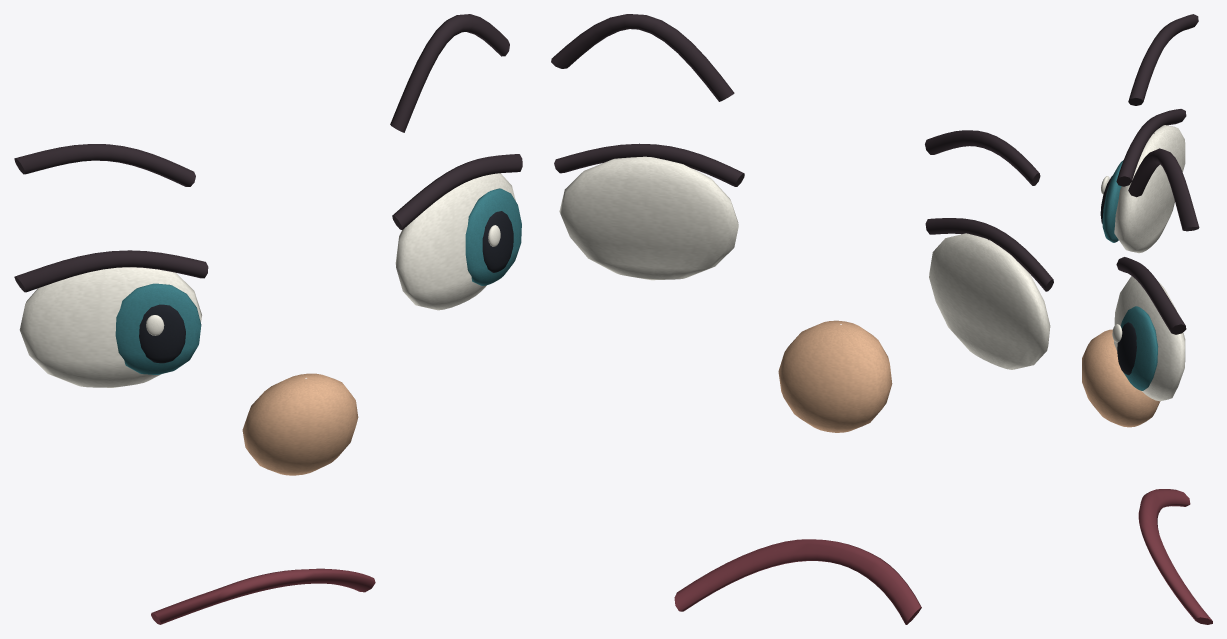
Rendered from face_scholar.gltf.
3 renders of one model, left to right at view 1: azimuth 30°, elevation 25°; view 2: azimuth 150°, elevation 25°; view 3: azimuth 270°, elevation 25°, orthographic. The views are drawn at different scales.
Visible parts, largest first — view 1: Deep in Thought; view 2: Deep in Thought; view 3: Deep in Thought.
Part boxes in pixels (<box>): Deep in Thought: <box>14,14,522,624</box>; Deep in Thought: <box>551,14,1053,624</box>; Deep in Thought: <box>1082,14,1212,624</box>.
Size of the model in its own units: 0.2649 by 0.2881 by 0.068.
6 materials, 6 textured.
